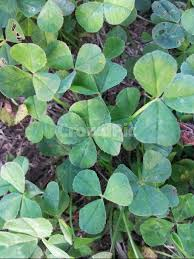4-clover: (56, 99, 124, 169)
